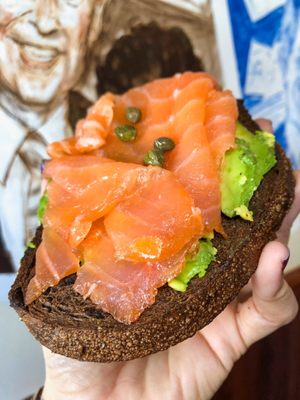soup: (4, 64, 297, 385)
